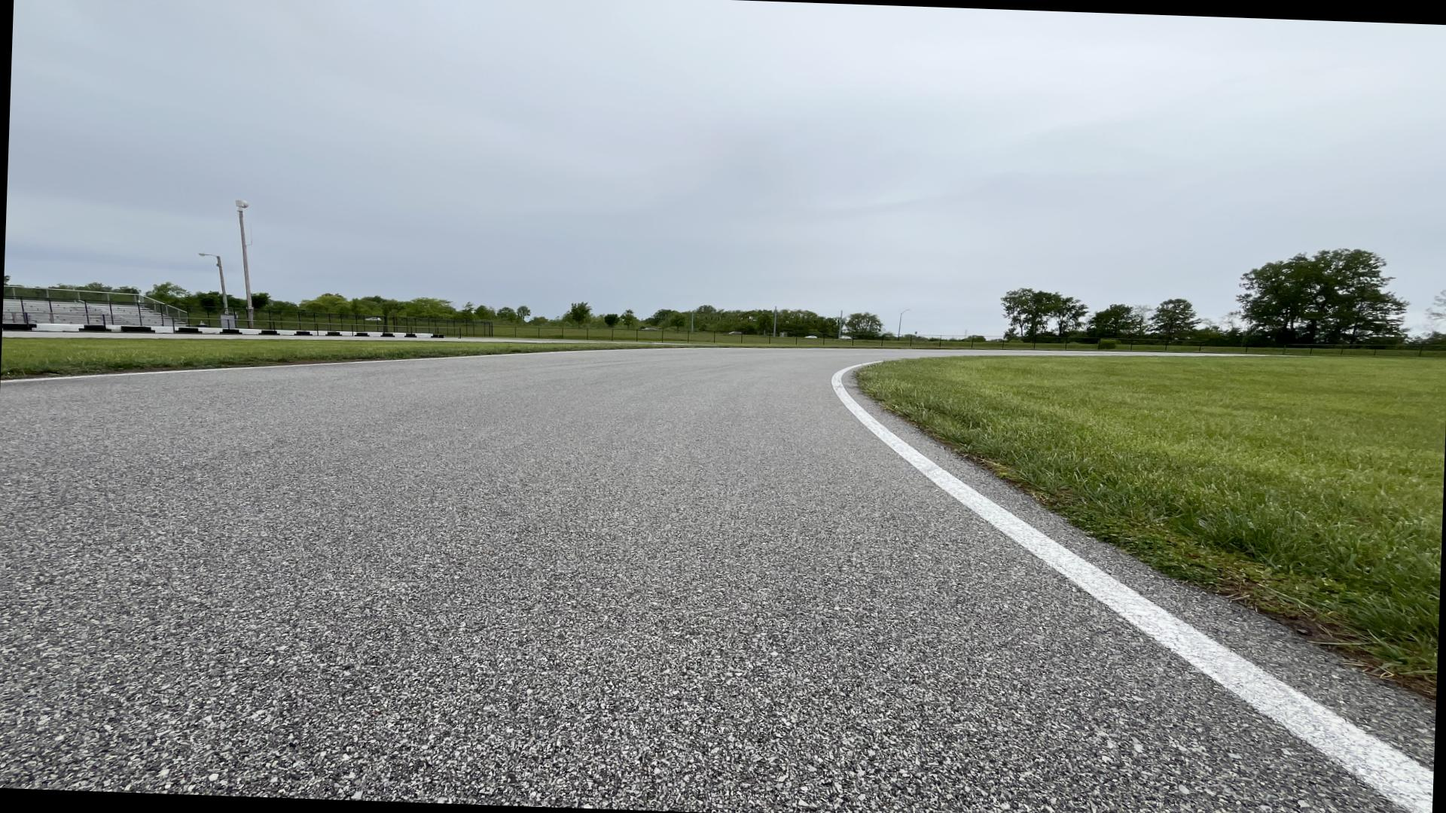white-line: (831, 355, 1433, 812), (1, 349, 688, 383)
